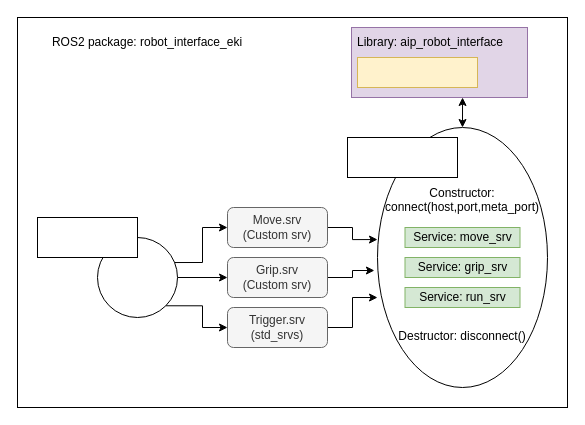
The diagram is 585 pixels wide and 425 high, and some of its shapes have lost their labels. The centre of each missing label's shape, as x and y in pixels:
Client: Client.py Python: the point at 87,237
Library: aip_common: the point at 417,72
move() grip() run(): the point at 137,277
Server: Server C++: the point at 402,157
